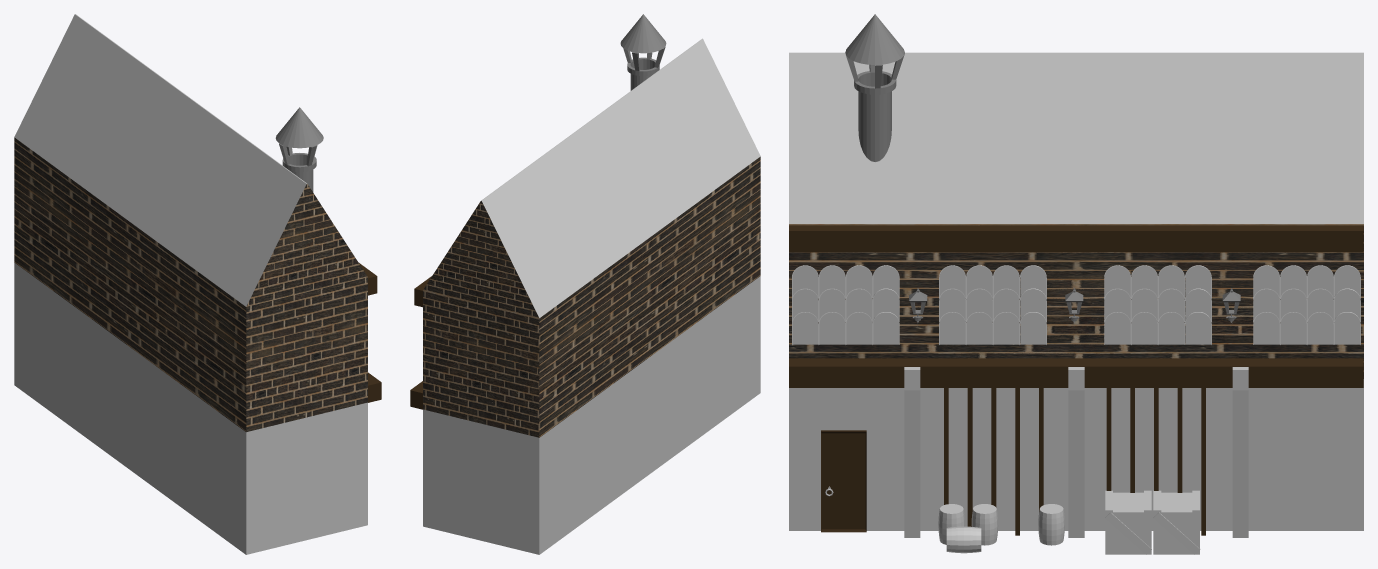
File: House2.fbx
3 views of the same model, side by side, from view 1: azimuth 30°, elevation 25°; view 2: azimuth 150°, elevation 25°; view 3: azimuth 270°, elevation 25° (orthographic). The views are drawn at different scales.
Parts seen in each view (by area): view 1: Основа дома.007, Основа дома.008, Крыша, Дымоход.002; view 2: Основа дома.007, Основа дома.008, Крыша, Дымоход.002; view 3: Крыша, Основа дома.008, Основа дома.007, Балка над основой.002, Балка над основой.003, Основа дома.001, Стекло.005, Стекло.006, Стекло.007, Стекло.004, Дымоход.002, Main Door.002 (+12 smaller).
Boxes of the visible parts, bbox=[...] form: Основа дома.007: bbox=[14, 137, 367, 432]; Основа дома.008: bbox=[14, 263, 367, 554]; Крыша: bbox=[14, 14, 306, 306]; Дымоход.002: bbox=[275, 107, 323, 191]; Основа дома.007: bbox=[423, 156, 760, 437]; Основа дома.008: bbox=[423, 276, 760, 554]; Крыша: bbox=[482, 39, 760, 317]; Дымоход.002: bbox=[620, 14, 666, 90]; Крыша: bbox=[789, 53, 1363, 223]; Основа дома.008: bbox=[789, 379, 1363, 530]; Основа дома.007: bbox=[789, 224, 1363, 378]; Балка над основой.002: bbox=[789, 358, 1363, 387]; Балка над основой.003: bbox=[789, 225, 1363, 252]; Основа дома.001: bbox=[789, 52, 1363, 537]; Стекло.005: bbox=[939, 265, 1046, 344]; Стекло.006: bbox=[1105, 265, 1211, 344]; Стекло.007: bbox=[1254, 265, 1360, 344]; Стекло.004: bbox=[792, 266, 898, 344]; Дымоход.002: bbox=[845, 14, 904, 161]; Main Door.002: bbox=[821, 430, 866, 532].
Bounding box in the file's own units: 281 × 654 × 685.
